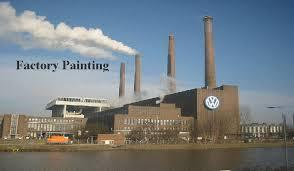smoke: (0, 0, 140, 62)
